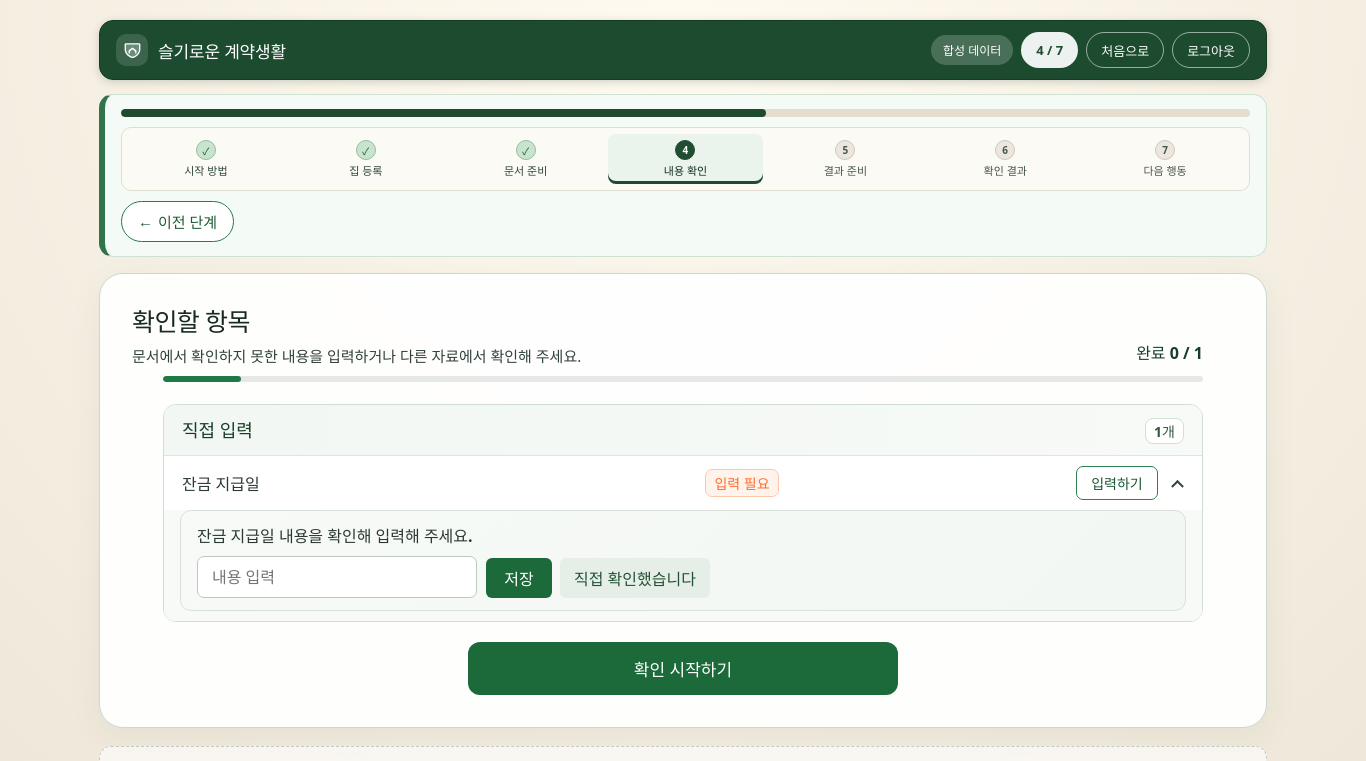
Test: ExtractionReviewPage › moves an empty item to completed when the user confirms it directly
Expected: the button "잔금 지급일 입력 필요 입력하기" is shown, x1=164 y1=456 x2=1202 y2=510
Click the button "직접 확인했습니다".
click(635, 578)  # box x1=560 y1=558 x2=710 y2=598
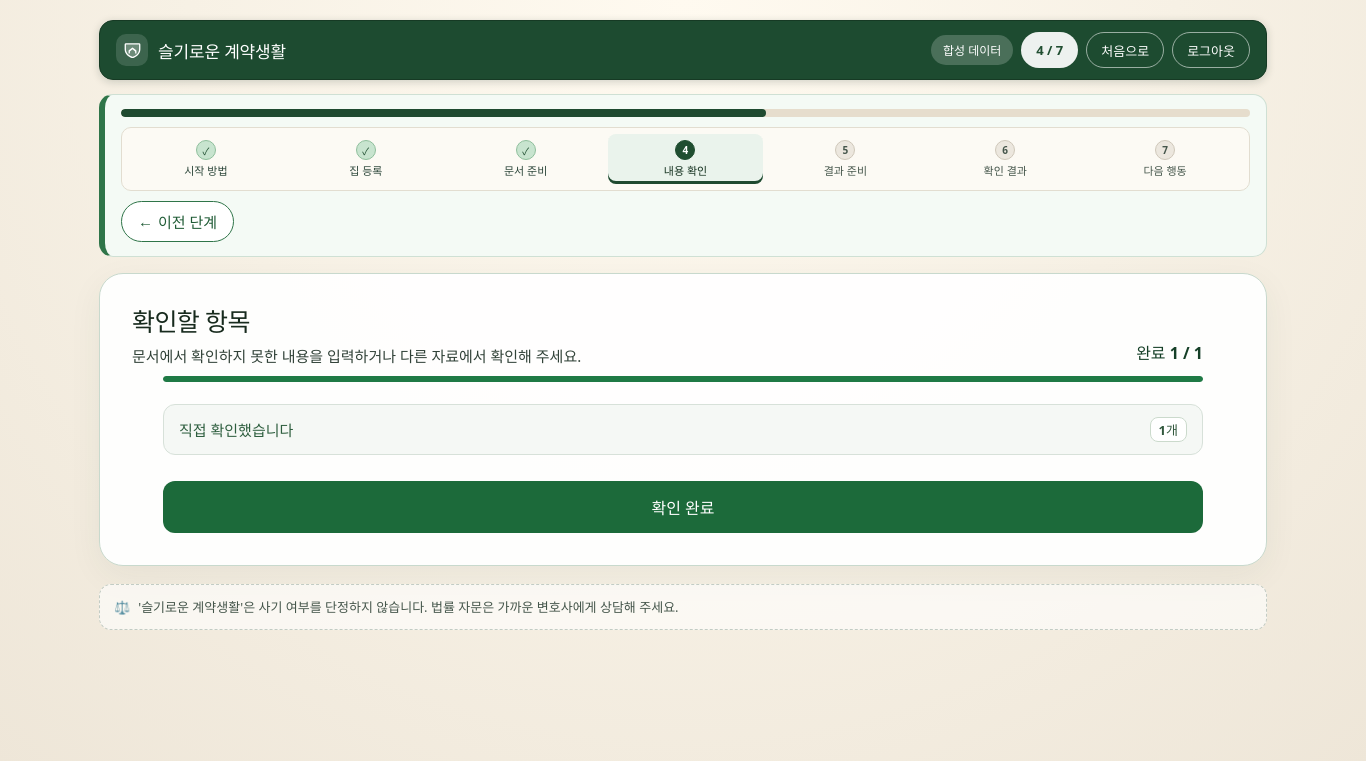
Expected: the button "잔금 지급일 입력 필요" is gone
Expected: the text "직접 확인했습니다" is shown, x1=179 y1=419 x2=293 y2=440
Expected: the button "확인 완료" is enabled, x1=163 y1=481 x2=1203 y2=533
